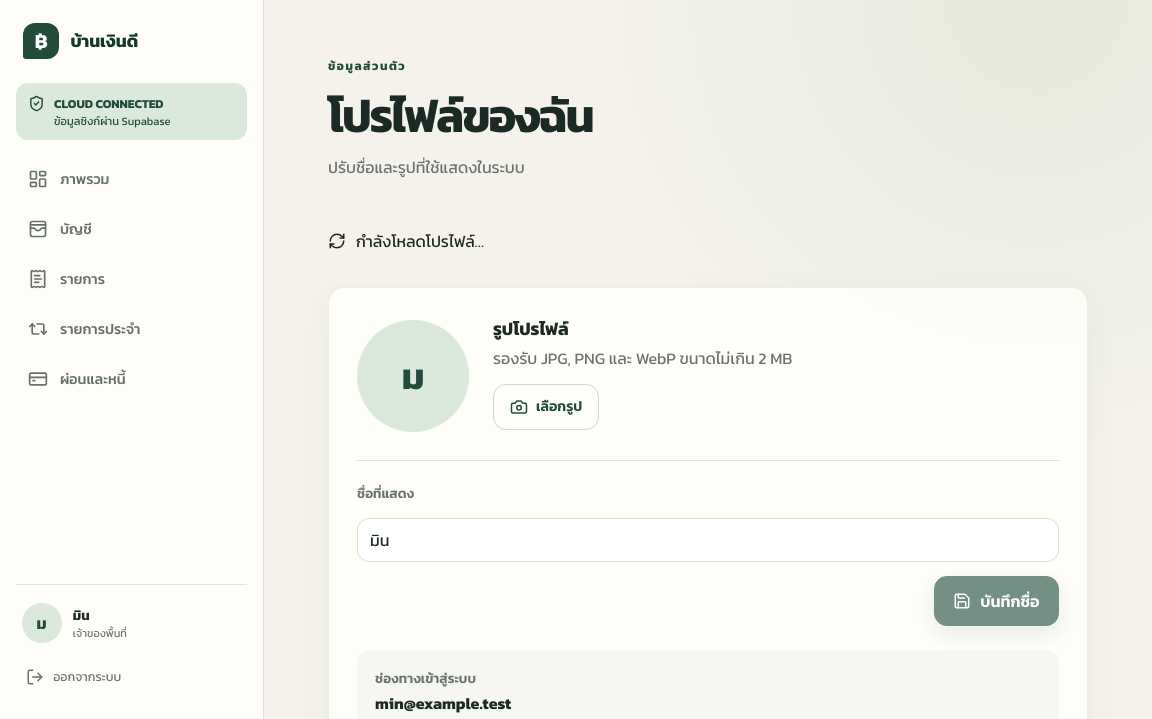
Test: cloud application flow › does not let a delayed profile load overwrite a newer confirmed mutation
Replace the text in the field labelled "ชื่อที่แสดง" with "มินยืนยันแล้ว": (708, 540) [357,518,1059,562]
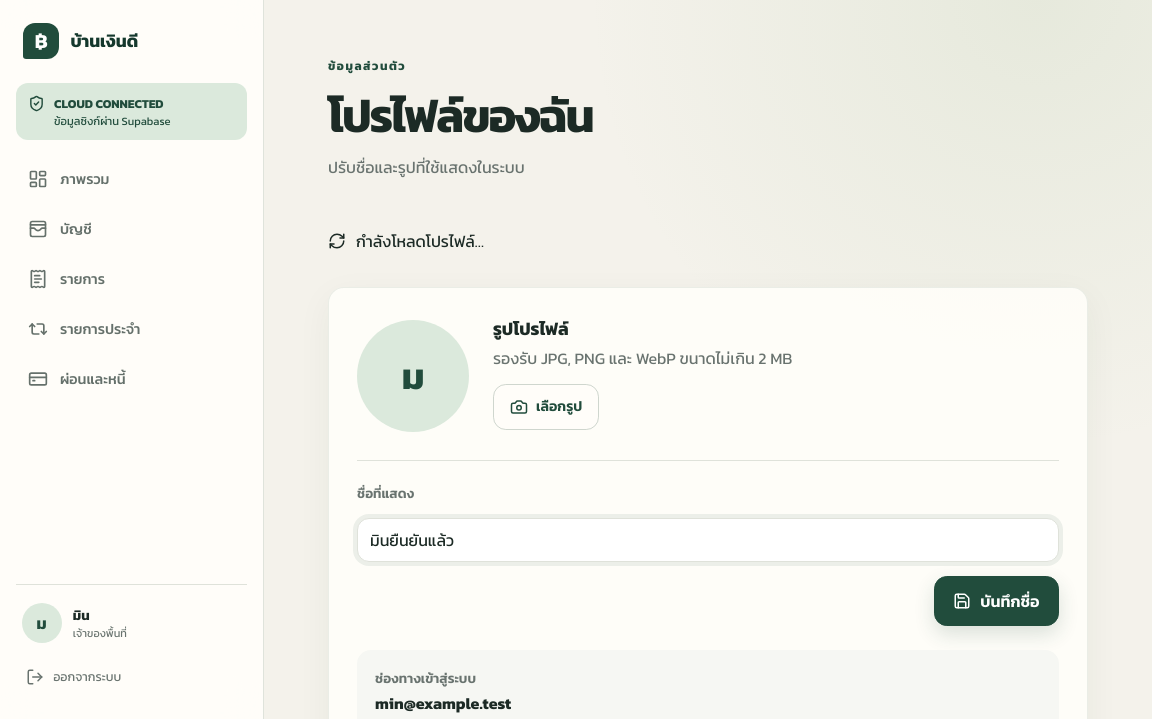
Click the button "บันทึกชื่อ": (996, 601) [934,576,1059,626]
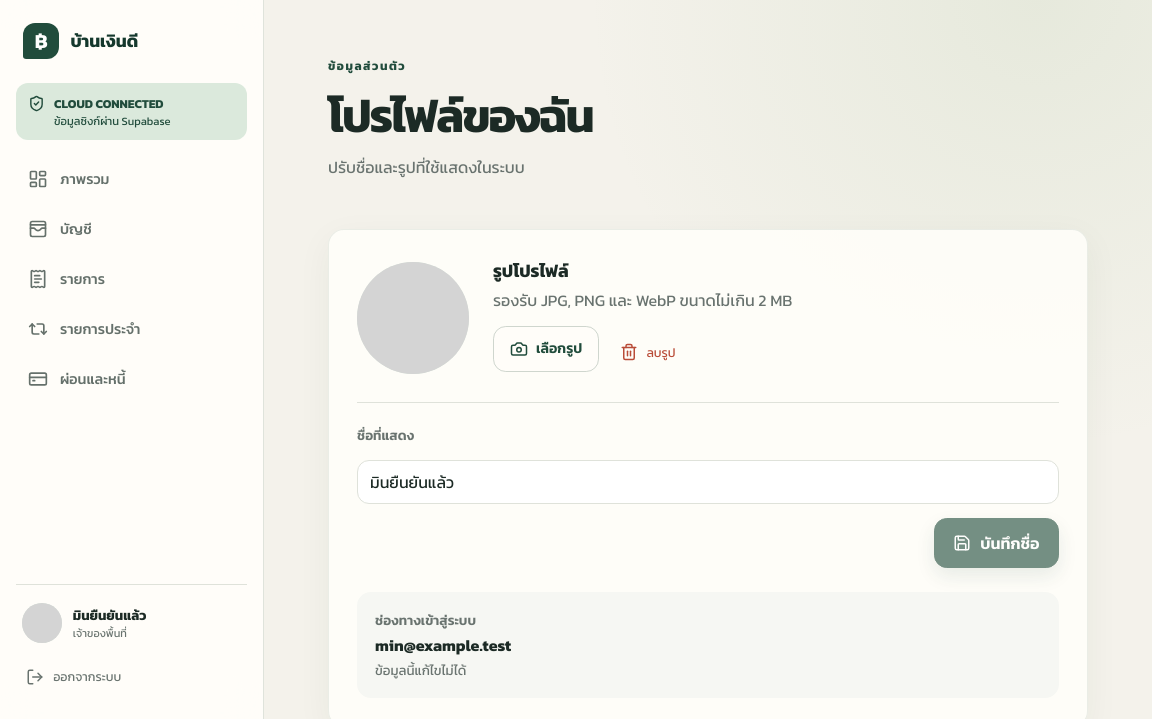
expect the link with aria-label "เปิดโปรไฟล์" shows "มินยืนยันแล้ว": met, box [22,603,146,643]
